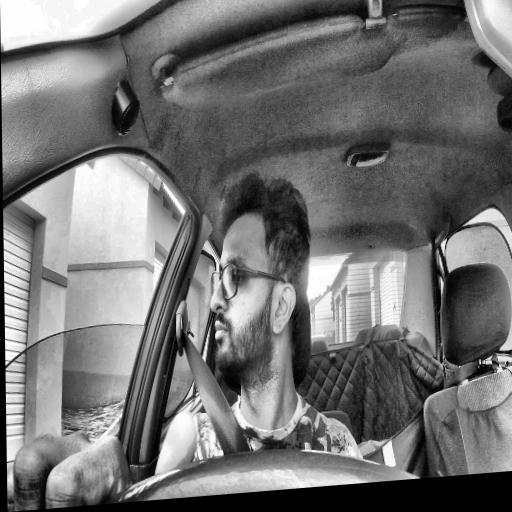awake: (209, 168, 313, 375)
